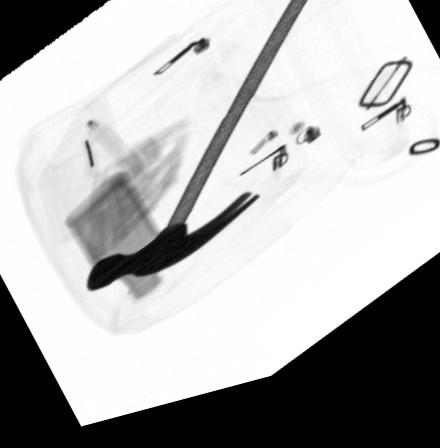Hammer: (87, 0, 317, 297)
